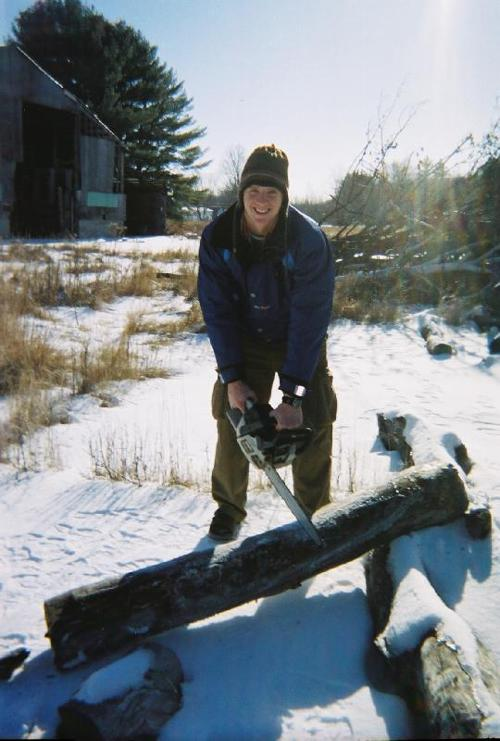person: (194, 144, 339, 545)
